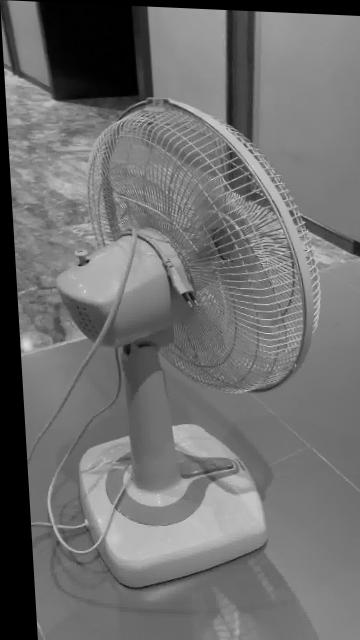Fan: (53, 98, 318, 590)
